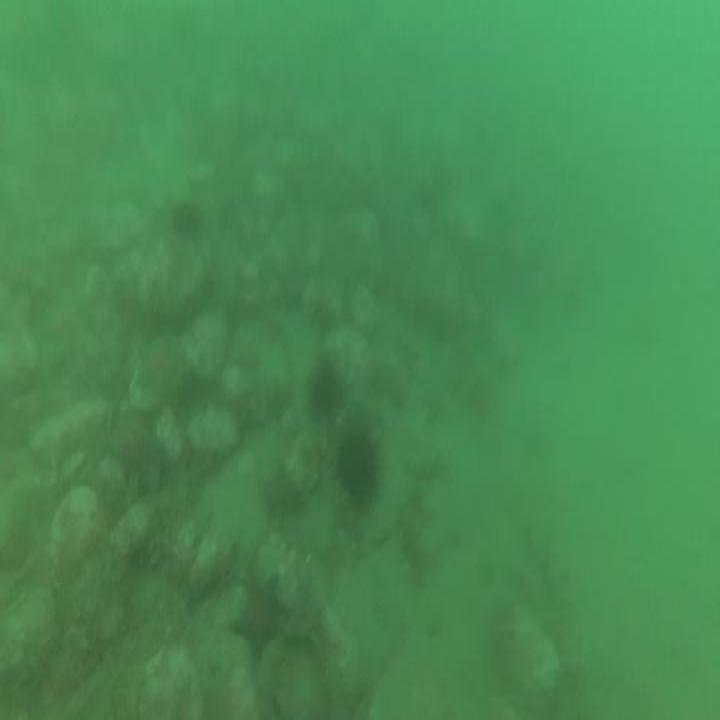echinus: (334, 423, 385, 514), (302, 354, 346, 428), (170, 194, 204, 245)
starfish: (231, 570, 287, 666), (109, 414, 164, 496), (130, 333, 184, 407)
